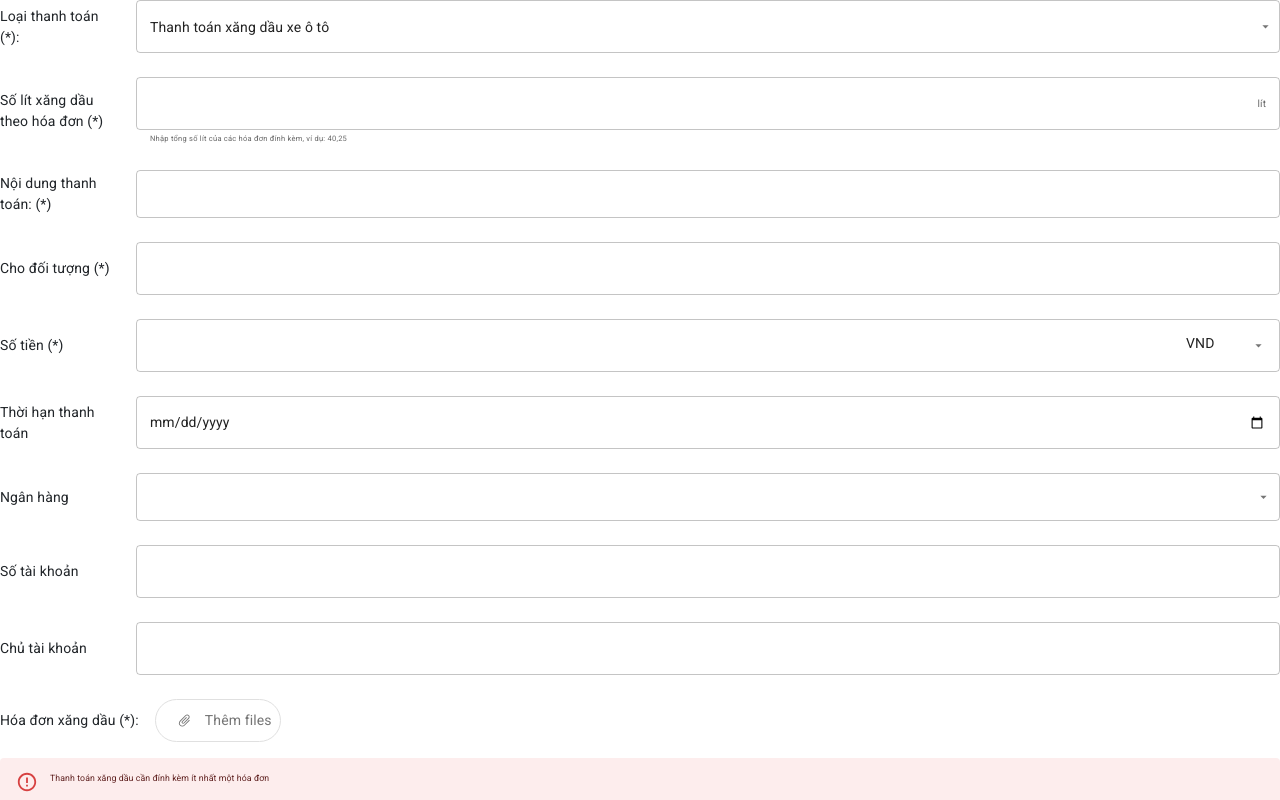
Test: changing away from fuel hides the liters field and clears its draft value
This screenshot has width=1280, height=800.
Press the mouse on the dropdown labelled "Thanh toán xăng dầu xe ô tô": {"x": 240, "y": 26} [150, 18, 329, 34]
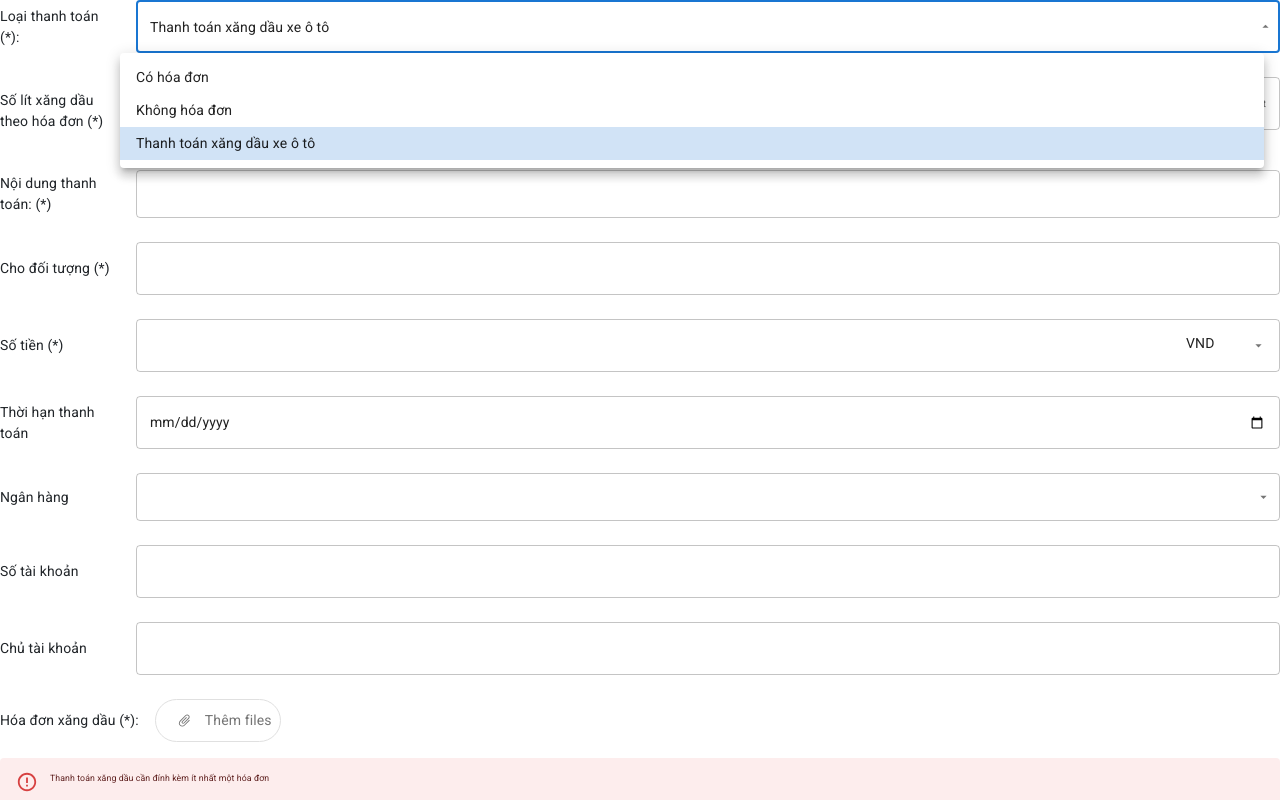
Click the option "Không hóa đơn": {"x": 184, "y": 110} [136, 102, 232, 118]
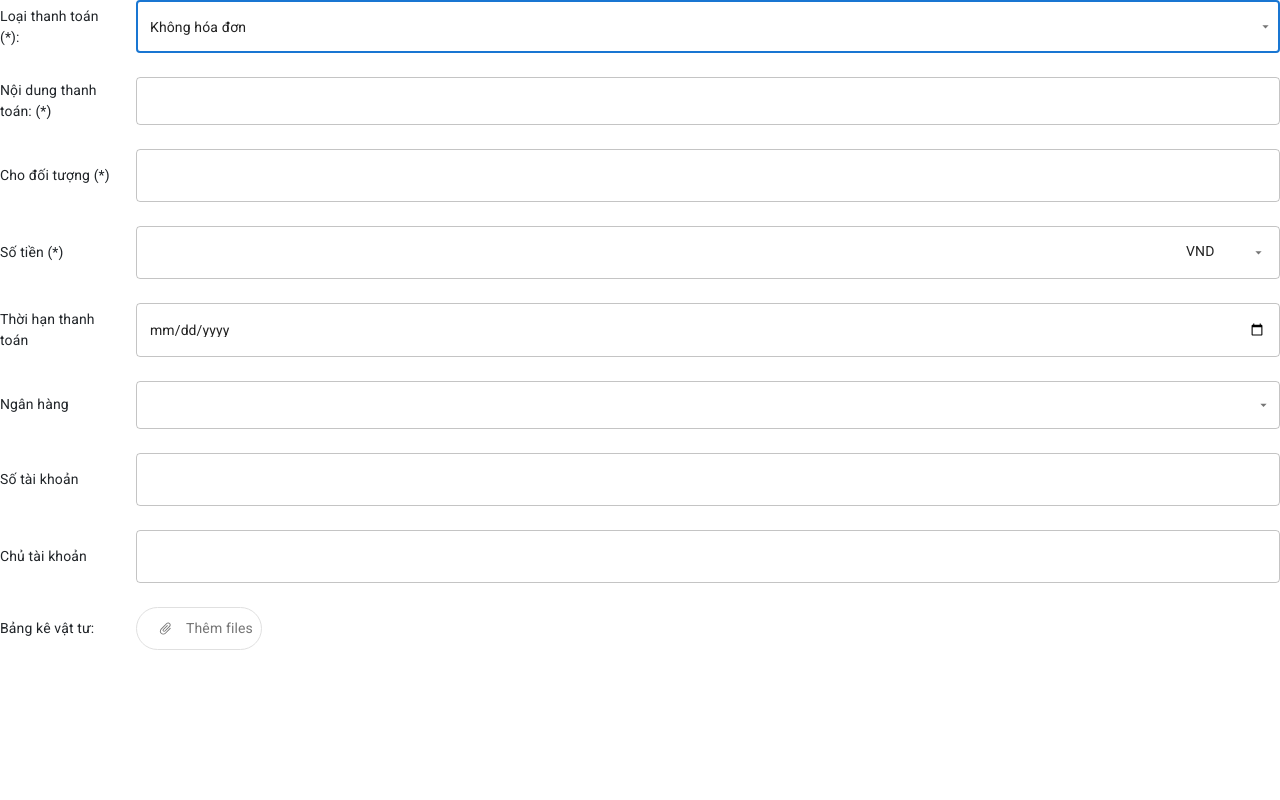
Expected: the field named "fuel_liters" is gone
